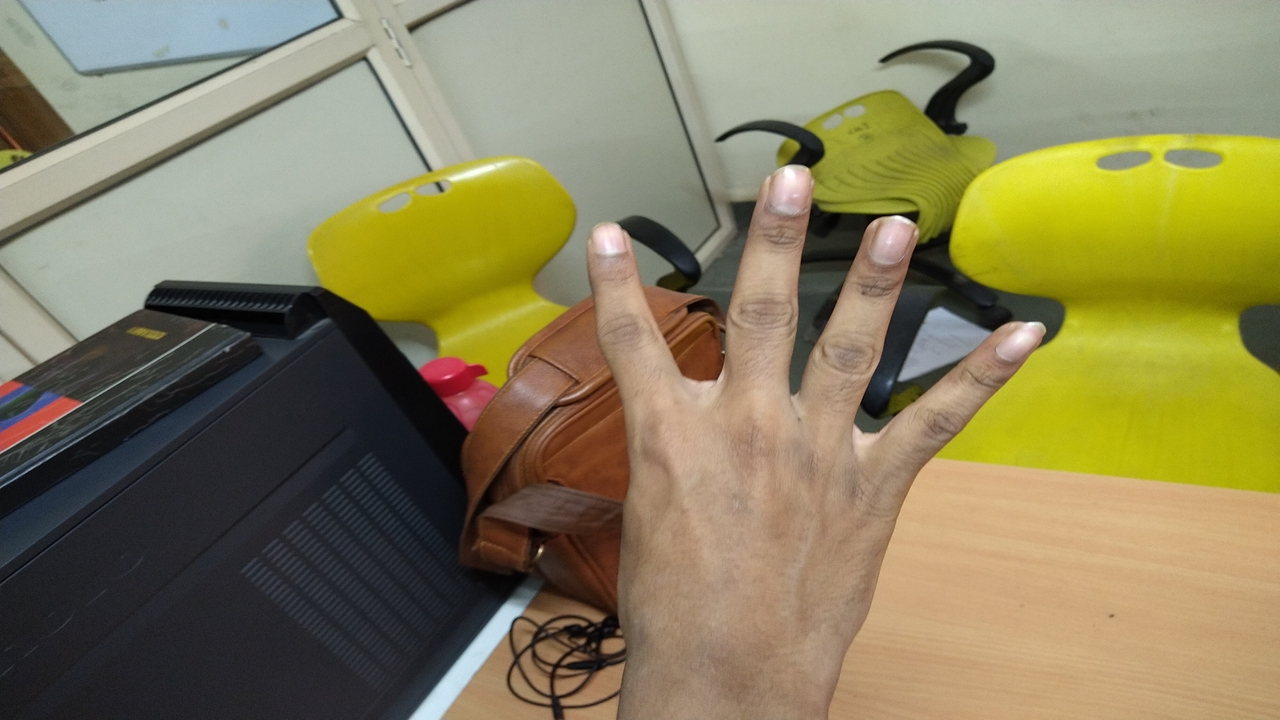fingertip: (854, 200, 930, 270), (982, 308, 1068, 366), (758, 152, 826, 218), (582, 214, 640, 276)
